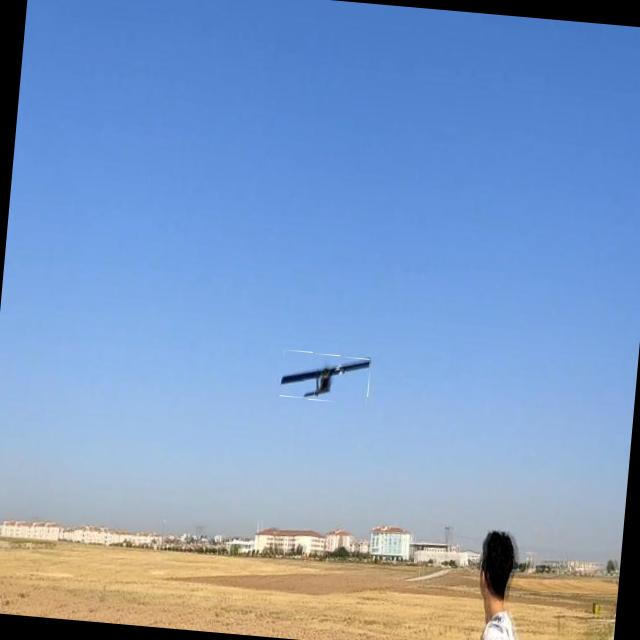UAV: (233, 325, 366, 443)
